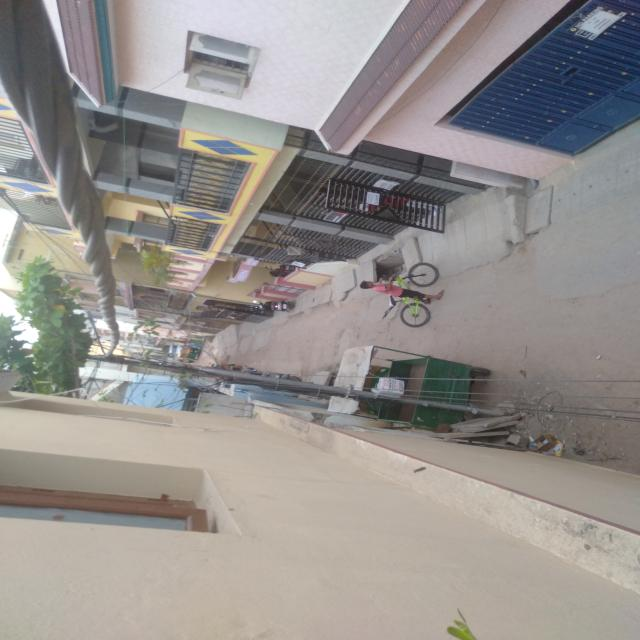Autorickshaw: (175, 345, 203, 360)
Bike: (248, 298, 298, 316), (261, 368, 304, 386), (241, 366, 262, 378), (208, 362, 224, 370)
Car: (168, 342, 189, 354)
